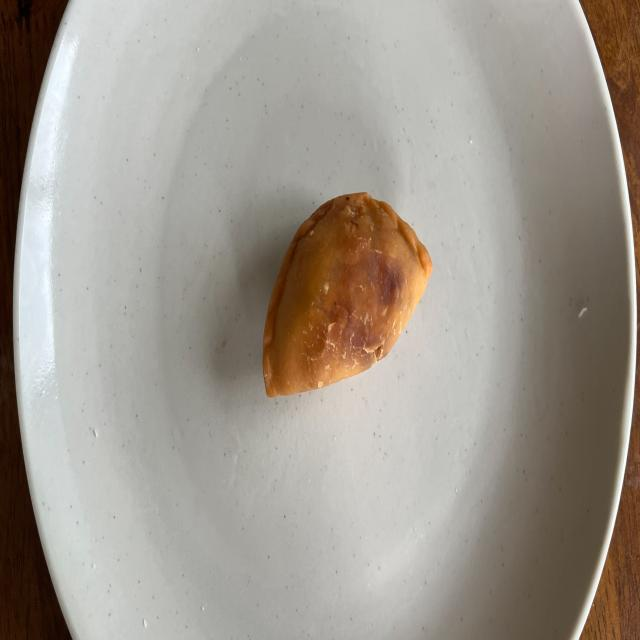karipap: (262, 193, 432, 398)
